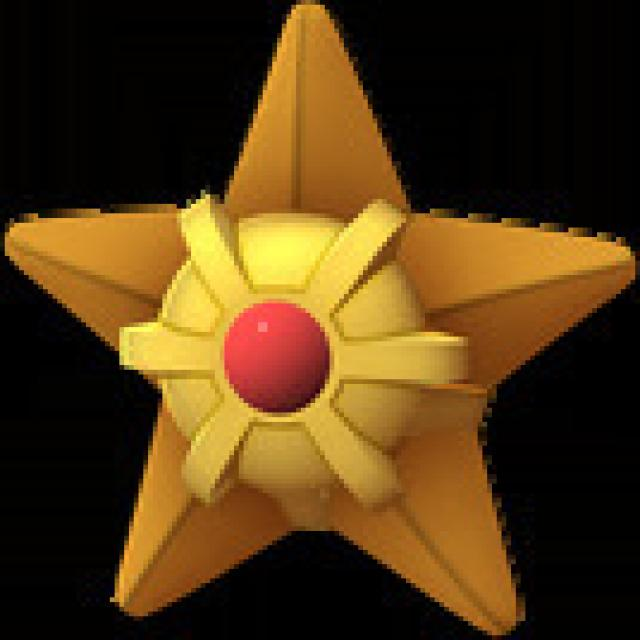Staryu: (121, 119, 522, 596)
